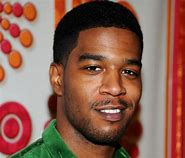person: (48, 2, 143, 146)
